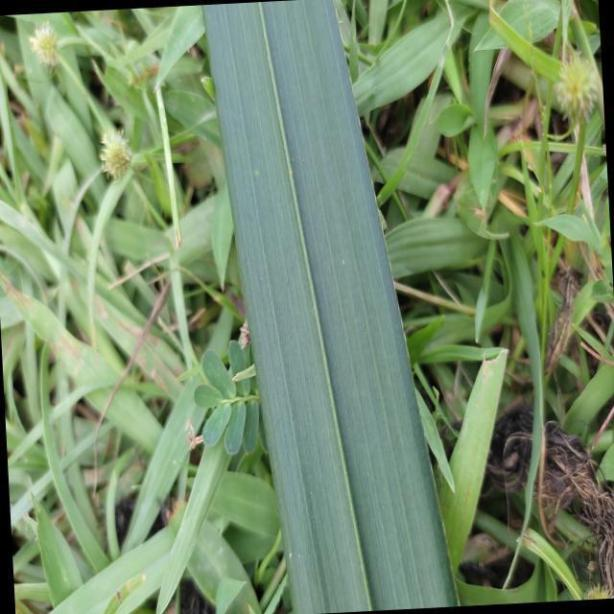Healthy: (202, 3, 460, 614)
